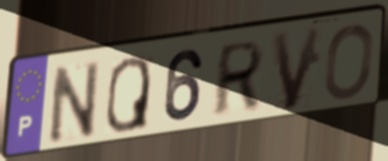6: (163, 47, 206, 125)
N: (47, 57, 102, 147)
O: (321, 22, 376, 102)
Q: (104, 53, 153, 135)
R: (209, 37, 267, 120)
V: (269, 22, 325, 113)
